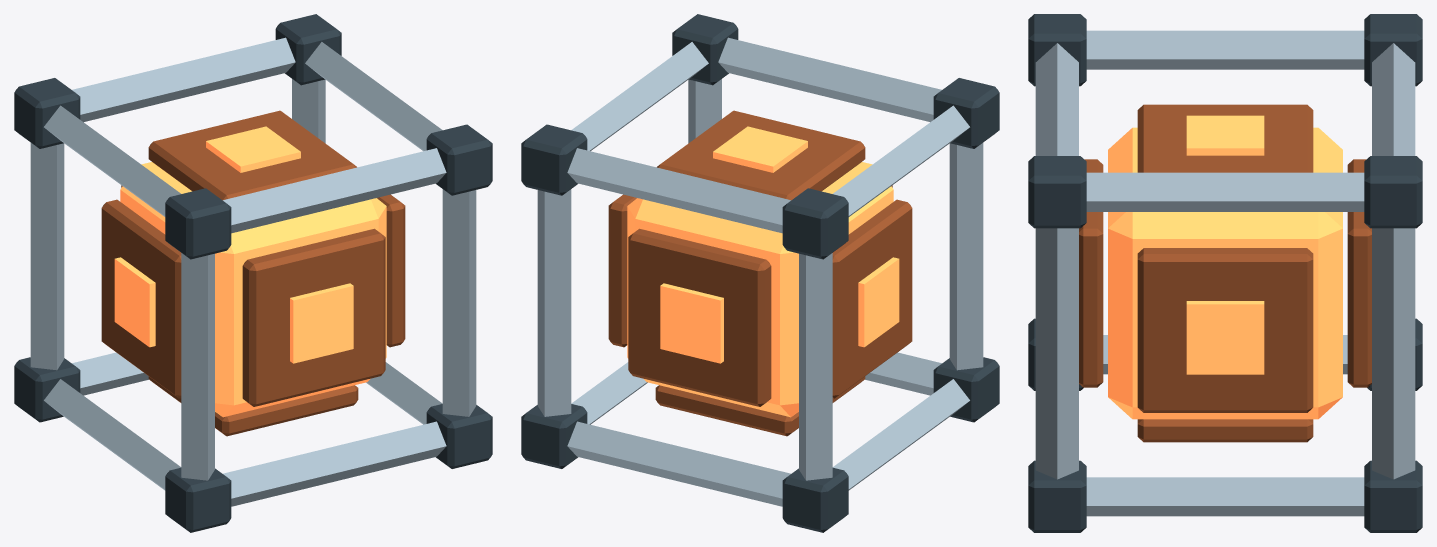
The model's file is loot_resource_cores.glb.
3 renders of one model, left to right at view 1: azimuth 30°, elevation 25°; view 2: azimuth 150°, elevation 25°; view 3: azimuth 270°, elevation 25°, orthographic. The views are drawn at different scales.
Visible parts, largest first — view 1: loot_resource_cores; view 2: loot_resource_cores; view 3: loot_resource_cores.
Part boxes in pixels (x1=…): loot_resource_cores: x1=14, y1=14, x2=492, y2=532; loot_resource_cores: x1=521, y1=14, x2=999, y2=532; loot_resource_cores: x1=1028, y1=14, x2=1422, y2=532.
Size of the model in its own units: 0.5656 by 0.5656 by 0.5656.
